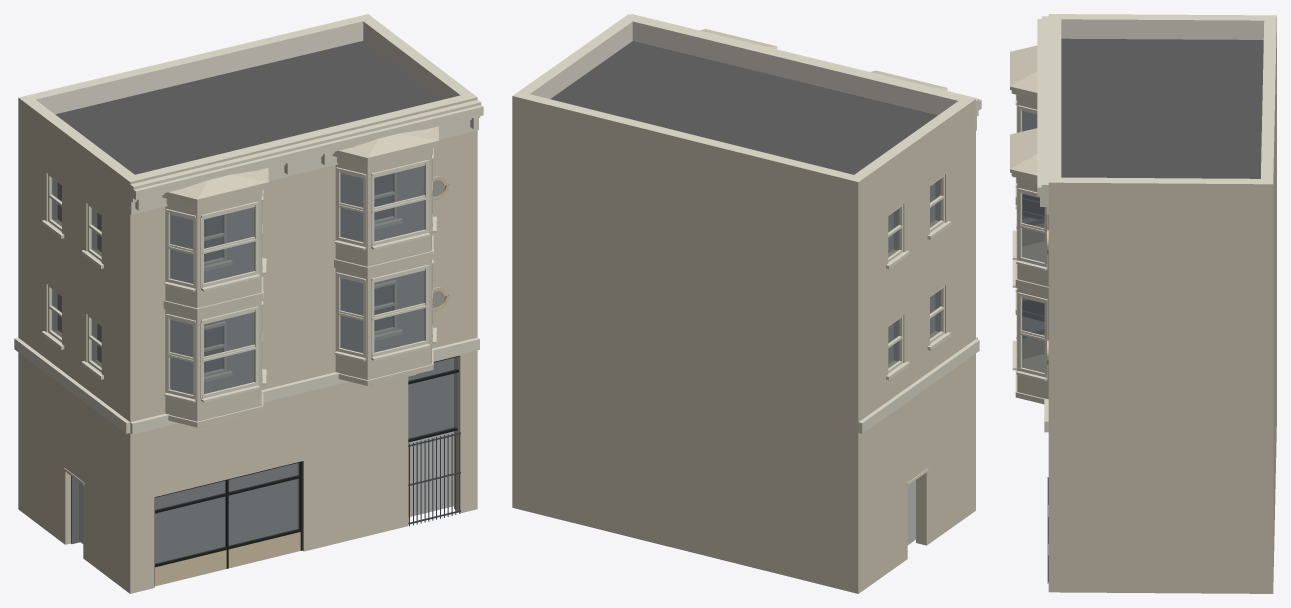
The model's file is exterior.glb.
3 views of the same model, side by side, from view 1: azimuth 30°, elevation 25°; view 2: azimuth 150°, elevation 25°; view 3: azimuth 270°, elevation 25° (orthographic).
Visible parts, largest first — view 1: shell, shadow-proxy, bay-glazing-hyb, roof, bay-windows-hyb, glazing, trim, storefront, frames, hand-ornament; view 2: shell, roof, trim, glazing, frames, shadow-proxy; view 3: shell, roof, bay-windows-hyb, bay-glazing-hyb, trim.
Part boxes in pixels (x1=…): shell: x1=18, y1=14, x2=477, y2=593; shadow-proxy: x1=58, y1=166, x2=453, y2=563; bay-glazing-hyb: x1=164, y1=148, x2=436, y2=402; roof: x1=55, y1=41, x2=440, y2=174; bay-windows-hyb: x1=162, y1=126, x2=439, y2=427; glazing: x1=52, y1=174, x2=457, y2=564; trim: x1=14, y1=99, x2=483, y2=434; storefront: x1=63, y1=356, x2=460, y2=586; frames: x1=48, y1=172, x2=396, y2=376; hand-ornament: x1=432, y1=176, x2=449, y2=311; shell: x1=512, y1=14, x2=975, y2=593; roof: x1=550, y1=41, x2=937, y2=174; trim: x1=631, y1=14, x2=981, y2=433; glazing: x1=888, y1=179, x2=940, y2=368; frames: x1=888, y1=175, x2=944, y2=372; shadow-proxy: x1=888, y1=183, x2=934, y2=544; shell: x1=1048, y1=14, x2=1276, y2=593; roof: x1=1061, y1=38, x2=1263, y2=178; bay-windows-hyb: x1=1010, y1=45, x2=1048, y2=404; bay-glazing-hyb: x1=1012, y1=95, x2=1047, y2=381; trim: x1=1037, y1=16, x2=1048, y2=432.
Bounding box in the file's own units: 11.04 × 12.25 × 7.23.
